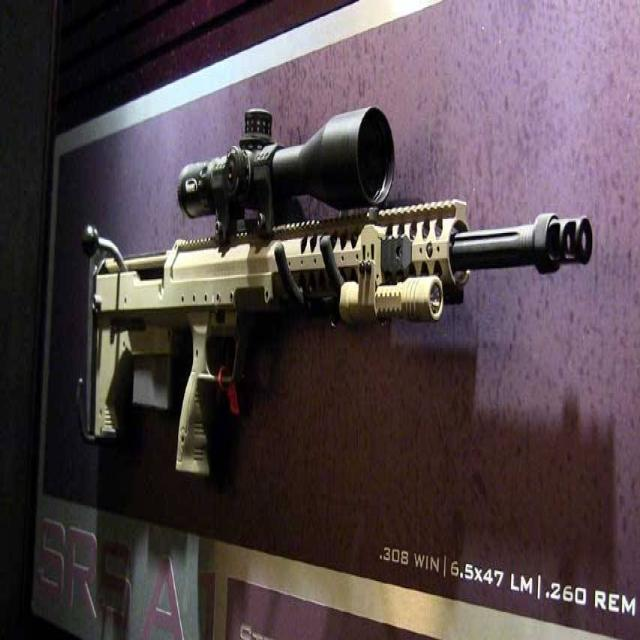firearm: (81, 103, 594, 477)
